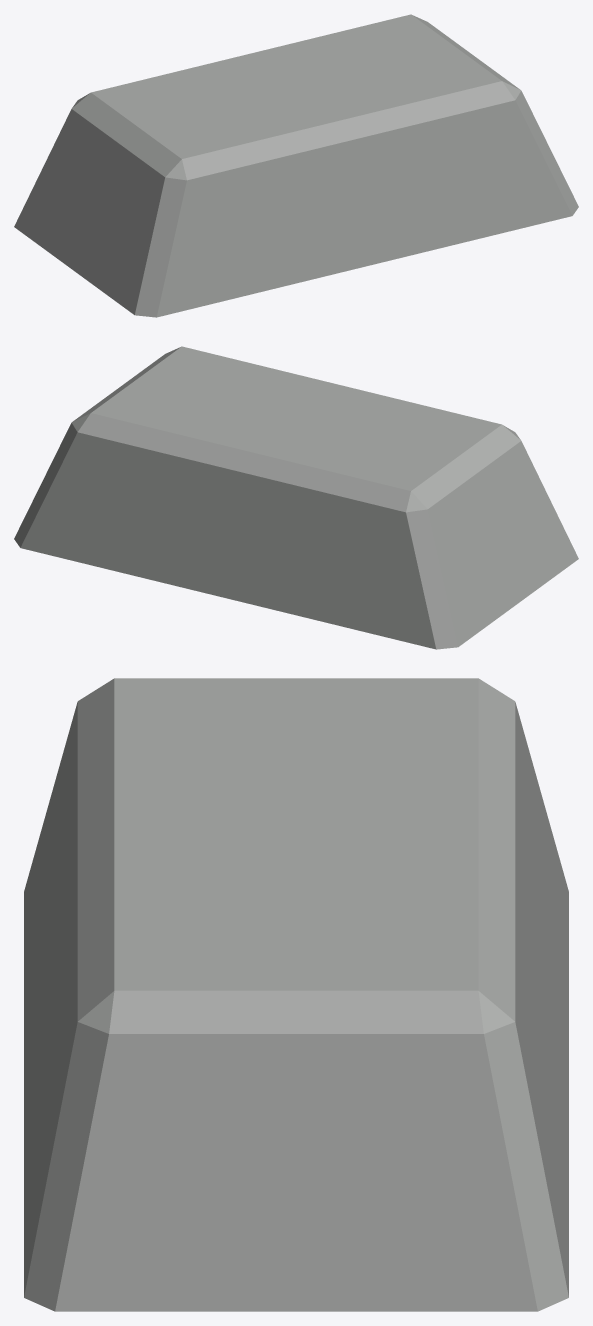
The model's file is iron_ingot.glb.
The picture shows the model from 3 angles, top to bottom: view 1: azimuth 30°, elevation 25°; view 2: azimuth 150°, elevation 25°; view 3: azimuth 270°, elevation 25°; orthographic projection. The views are drawn at different scales.
Parts seen in each view (by area): view 1: SM_Iron_Ingot2; view 2: SM_Iron_Ingot2; view 3: SM_Iron_Ingot2.
Part boxes in pixels (x1,y1,x2,y2): SM_Iron_Ingot2: (14, 14, 578, 317); SM_Iron_Ingot2: (14, 346, 578, 649); SM_Iron_Ingot2: (24, 678, 568, 1311).
Size of the model in its own units: 0.5519 by 0.1546 by 0.2932.
Materials: 1 (1 with a texture image).
